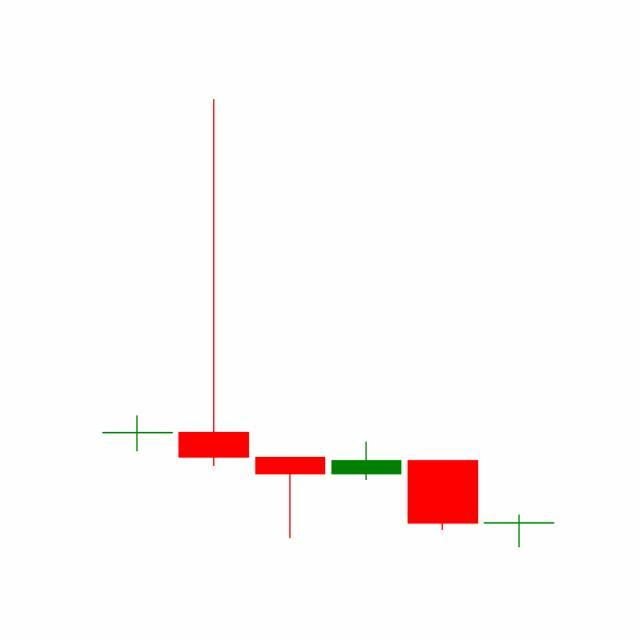Marubozu: (404, 459, 482, 532)
